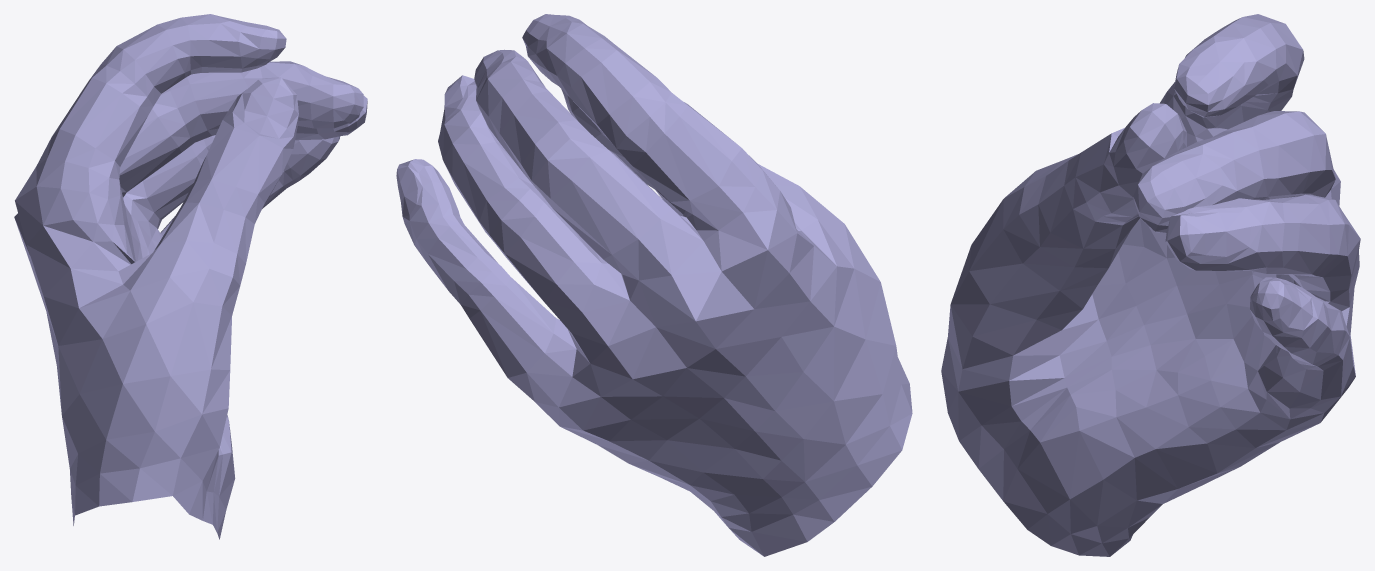
Rendered from hand_0020.glb.
3 renders of one model, left to right at view 1: azimuth 30°, elevation 25°; view 2: azimuth 150°, elevation 25°; view 3: azimuth 270°, elevation 25°, orthographic. The views are drawn at different scales.
Visible parts, largest first — view 1: world; view 2: world; view 3: world.
Part boxes in pixels (bbox=[...]): world: bbox=[14, 14, 367, 539]; world: bbox=[396, 14, 912, 556]; world: bbox=[941, 14, 1360, 556].
Bounding box in the file's own units: 0.1128 × 0.1418 × 0.0926.
